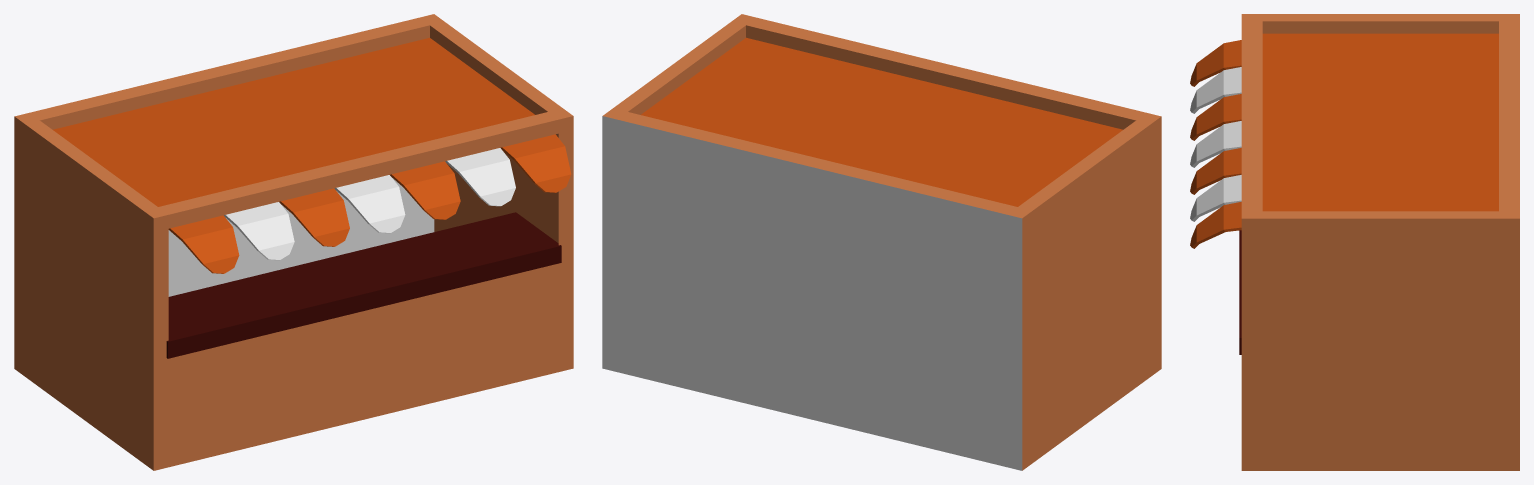
File: foodStall1.fbx
3 renders of one model, left to right at view 1: azimuth 30°, elevation 25°; view 2: azimuth 150°, elevation 25°; view 3: azimuth 270°, elevation 25°, orthographic.
Parts seen in each view (by area): view 1: foodStall2; view 2: foodStall2; view 3: foodStall2.
Part boxes in pixels (box(x1,y1,x2,y2)): foodStall2: box(14, 14, 573, 470); foodStall2: box(602, 14, 1161, 470); foodStall2: box(1190, 14, 1519, 470).
Size of the model in its own units: 348 by 200 by 237.
